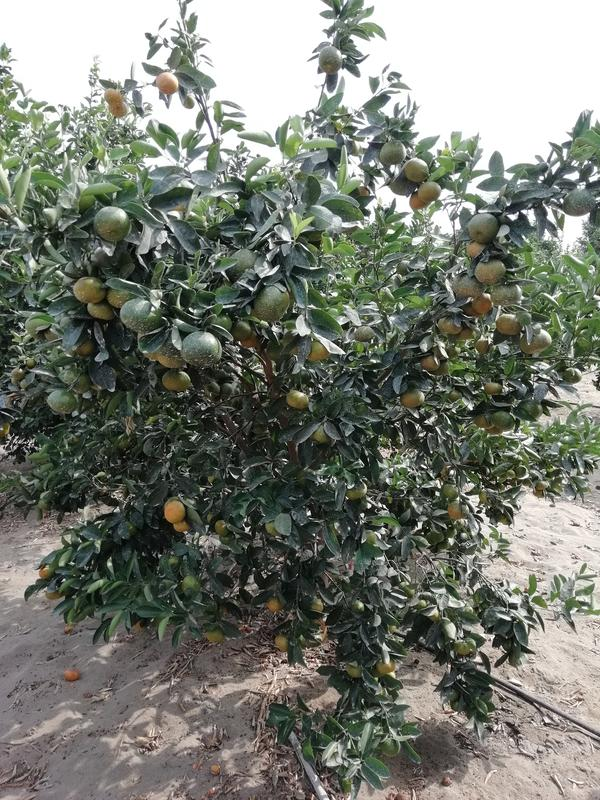mandarina naranja: (163, 495, 185, 523), (495, 312, 521, 335), (156, 71, 179, 94), (400, 388, 425, 407), (472, 293, 493, 314), (104, 87, 125, 102), (266, 596, 284, 613), (62, 667, 81, 682), (275, 634, 289, 651), (110, 103, 127, 117), (172, 522, 190, 532)
mandarina verde: (183, 331, 223, 367), (120, 297, 161, 332), (254, 285, 290, 322), (95, 205, 132, 241), (73, 276, 106, 304), (563, 189, 596, 216), (468, 214, 498, 243), (46, 388, 76, 415), (474, 260, 506, 285), (318, 45, 343, 75), (520, 332, 552, 355), (379, 140, 407, 165), (162, 369, 191, 391), (404, 158, 430, 182), (494, 284, 522, 306), (86, 301, 115, 321), (285, 389, 310, 409), (417, 182, 441, 202), (437, 316, 462, 334), (491, 411, 514, 430), (309, 341, 329, 362), (232, 321, 253, 339), (355, 326, 375, 342), (443, 482, 460, 499), (214, 519, 230, 536), (204, 629, 224, 642), (377, 661, 395, 673), (484, 382, 502, 394), (25, 357, 36, 368)
